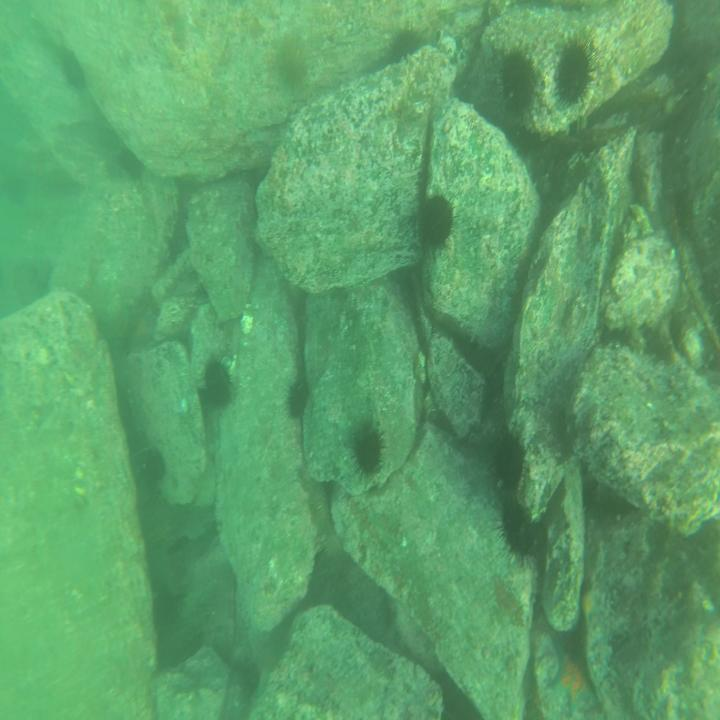echinus: (551, 31, 598, 114), (496, 46, 540, 122), (494, 495, 540, 567), (348, 418, 390, 482), (492, 427, 528, 498), (421, 190, 459, 256), (276, 38, 310, 97), (201, 354, 235, 408), (388, 28, 421, 68), (60, 46, 86, 95), (285, 376, 310, 422), (117, 140, 140, 183), (142, 444, 166, 485)
starfish: (545, 621, 598, 720), (128, 303, 157, 353)
